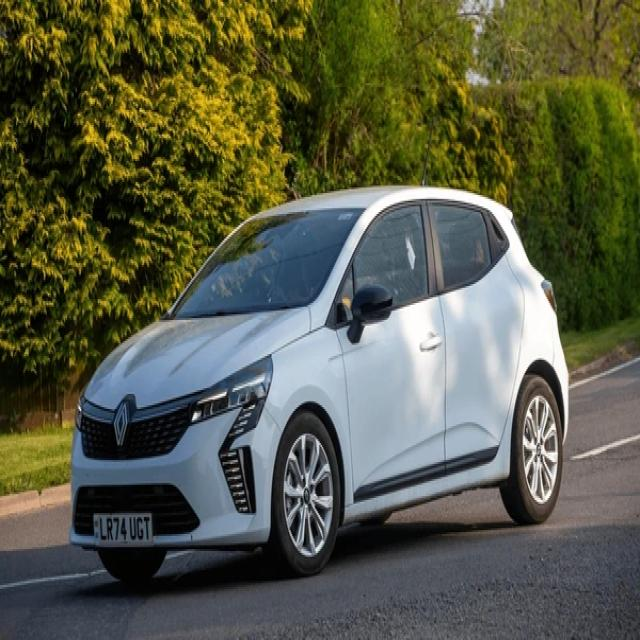renault: (112, 400, 132, 451)
